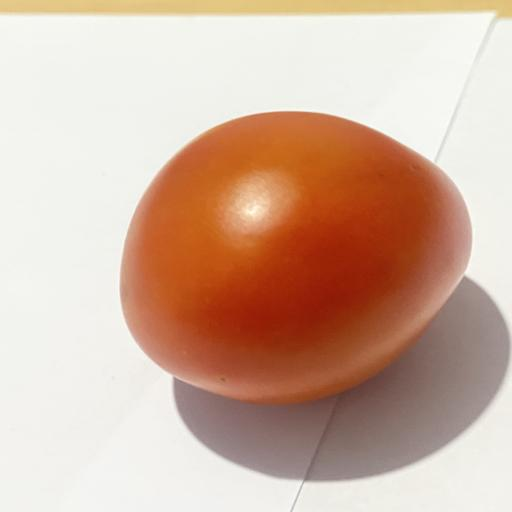ripe: (120, 111, 472, 404)
